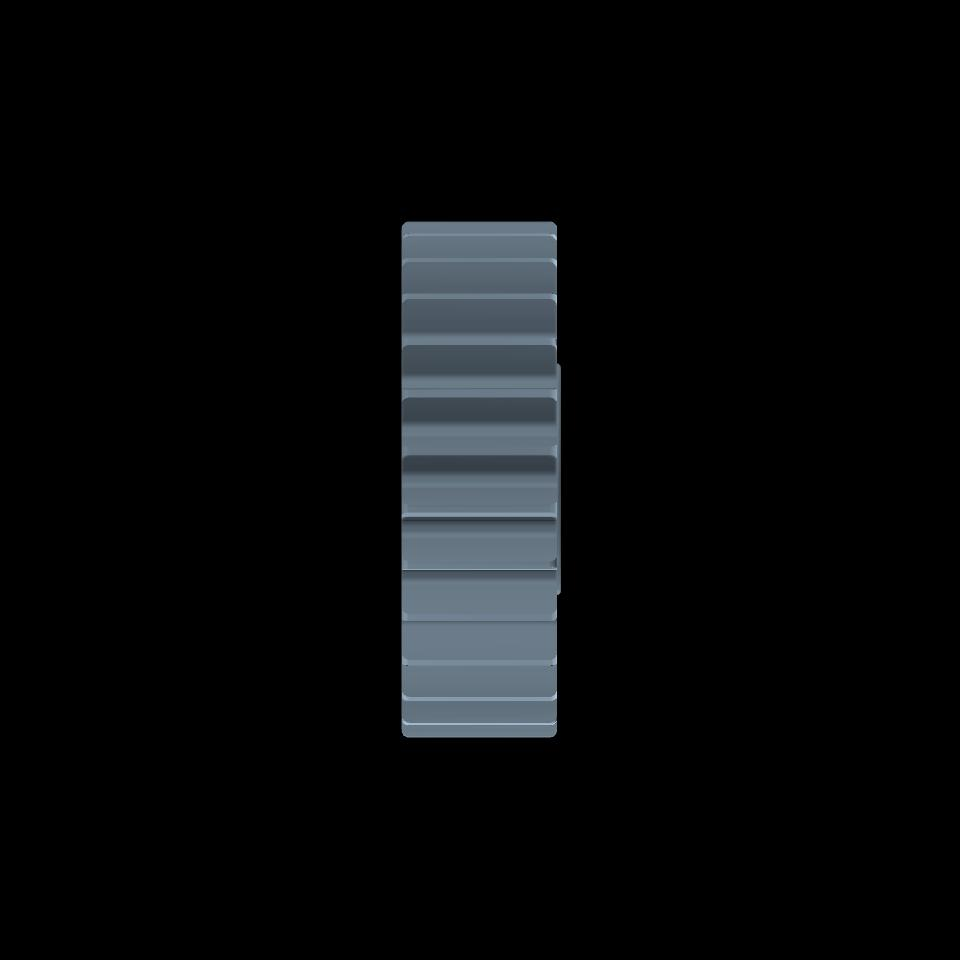Straight: (408, 221, 551, 738)
